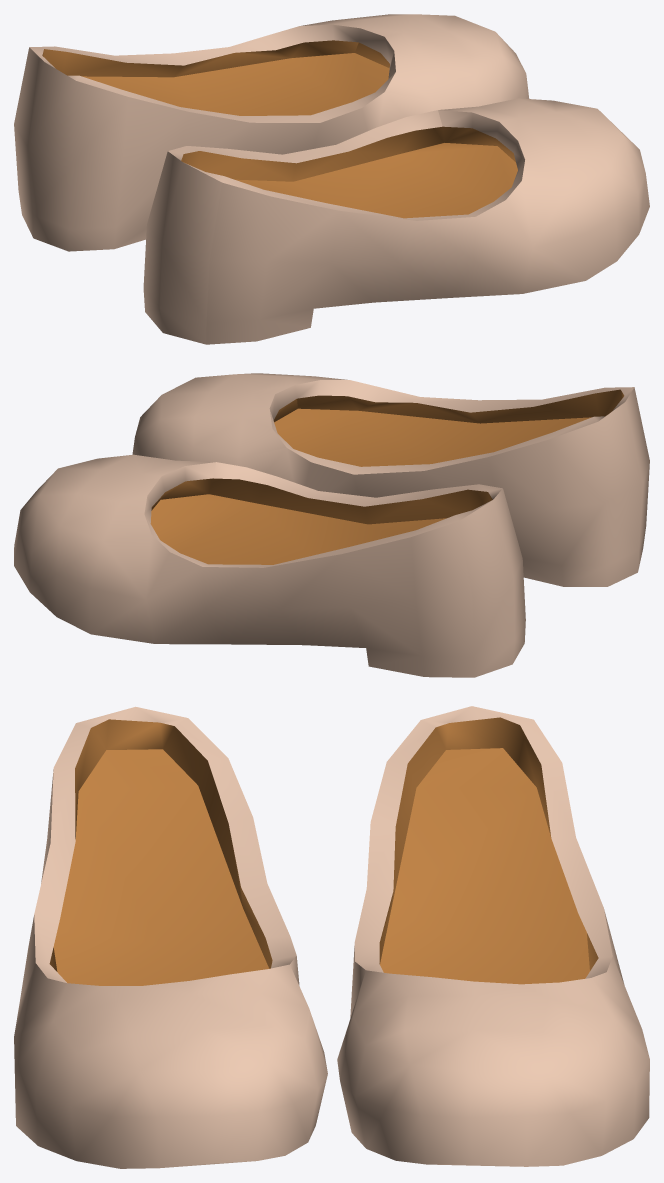
The model's file is flatshoes.fbx.
3 renders of one model, top to bottom at view 1: azimuth 30°, elevation 25°; view 2: azimuth 150°, elevation 25°; view 3: azimuth 270°, elevation 25°, orthographic. The views are drawn at different scales.
Parts seen in each view (by area): view 1: flatshoes_f; view 2: flatshoes_f; view 3: flatshoes_f.
Boxes of the visible parts, x1=… form: flatshoes_f: x1=14, y1=14, x2=649, y2=344; flatshoes_f: x1=14, y1=373, x2=649, y2=677; flatshoes_f: x1=14, y1=706, x2=649, y2=1168.
Size of the model in its own units: 1793 by 595 by 1624.
